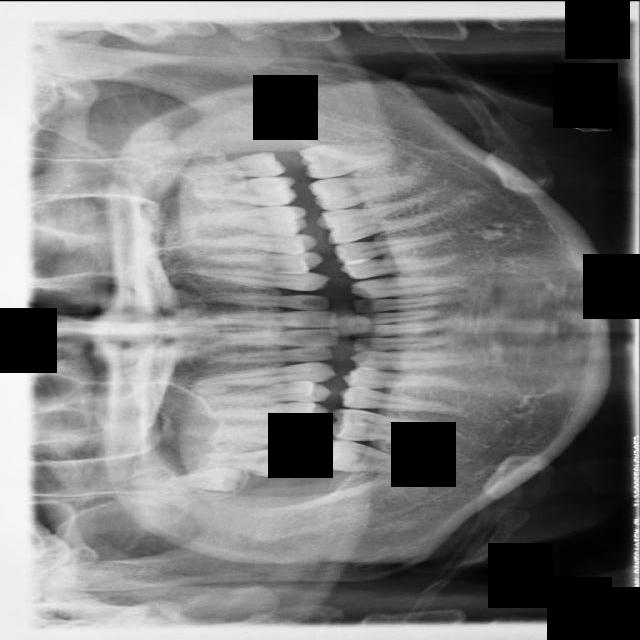3M ESPE Implant: (161, 463, 244, 492)
52: (326, 404, 384, 446)
73: (583, 64, 597, 73)
BioHorizons Implant: (190, 175, 297, 208)
BioLife Implant: (182, 151, 287, 179)
Biomet 3i Implant: (298, 136, 400, 180)
Blue Sky Bio Implant: (307, 173, 422, 211)
Caries: (203, 445, 311, 482)
Implant: (315, 435, 442, 485)
